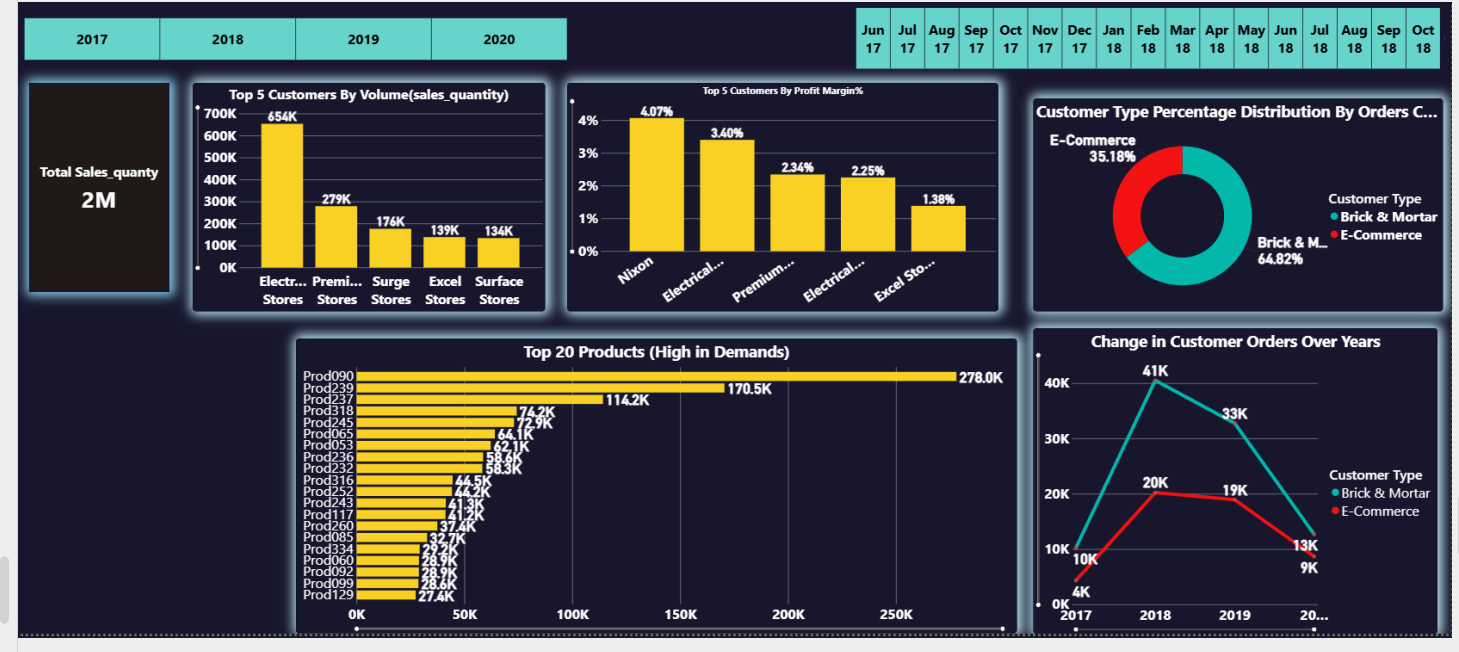

The page's visual inventory and layout, read from the dashboard file:
{"tool":"powerbi","page":{"name":"Customer_Type & Product Insights ","canvas":[4200,2000],"ordinal":2},"visuals":[{"type":"slicer","fields":{"Values":["date.cy_date"]},"box":[2432,160,1760,192],"z":0},{"type":"slicer","fields":{"Values":["date.year"]},"box":[2560,0,1632,128],"z":1000},{"type":"barChart","title":"Top 20 Products (High in Demands) ","fields":{"Category":["transactions.product_code"],"Y":["Sum(transactions.sales_qty)"]},"box":[816,1136,2112,864],"z":2000},{"type":"lineChart","title":"Change in Customer Orders Over Years","fields":{"Y":["CountNonNull(transactions.customer_code)"],"Series":["customers.customer_type"],"Category":["date.cy_date.Variation.Date Hierarchy.Year","date.cy_date.Variation.Date Hierarchy.Quarter"]},"box":[2976,1104,1184,896],"z":3000},{"type":"donutChart","title":"Customer Type Percentage Distribution By Orders Count","fields":{"Category":["customers.customer_type"],"Y":["CountNonNull(transactions.customer_code)"]},"box":[2976,432,1200,624],"z":4000},{"type":"shape","box":[0,0,672,2048],"z":5000},{"type":"image","box":[0,0,672,432],"z":6000},{"type":"actionButton","box":[96,960,448,96],"z":7000},{"type":"actionButton","box":[96,1152,480,128],"z":8000},{"type":"actionButton","box":[160,1408,320,96],"z":9000},{"type":"image","box":[64,704,544,160],"z":10000},{"type":"columnChart","title":"Top 5 Customers By Profit Margin%","fields":{"Category":["customers.custmer_name"],"Y":["BaseMeasure.Profit Margin%"]},"box":[1824,384,1056,672],"z":11000},{"type":"columnChart","title":"Top 5 Customers By Volume(sales_quantity)","fields":{"Category":["customers.custmer_name"],"Y":["BaseMeasure.Total Sales_quanty"]},"box":[768,384,1008,672],"z":12000},{"type":"cardVisual","fields":{"Data":["BaseMeasure.Total Sales_quanty"]},"box":[768,48,1584,240],"z":13000}]}

Visuals, with their boxes on the page's 4200x2000 design canvas (x1, y1, x2, y2). These are canvas units, not pixel positions in the 1459x652 screenshot, which may show the page scaled, cropped or inside an application window:
slicer - date.cy_date: (x1=2432, y1=160, x2=4192, y2=352)
slicer - date.year: (x1=2560, y1=0, x2=4192, y2=128)
"Top 20 Products (High in Demands) " barChart: (x1=816, y1=1136, x2=2928, y2=2000)
"Change in Customer Orders Over Years" lineChart: (x1=2976, y1=1104, x2=4160, y2=2000)
"Customer Type Percentage Distribution By Orders Count" donutChart: (x1=2976, y1=432, x2=4176, y2=1056)
shape: (x1=0, y1=0, x2=672, y2=2048)
image: (x1=0, y1=0, x2=672, y2=432)
actionButton: (x1=96, y1=960, x2=544, y2=1056)
actionButton: (x1=96, y1=1152, x2=576, y2=1280)
actionButton: (x1=160, y1=1408, x2=480, y2=1504)
image: (x1=64, y1=704, x2=608, y2=864)
"Top 5 Customers By Profit Margin%" columnChart: (x1=1824, y1=384, x2=2880, y2=1056)
"Top 5 Customers By Volume(sales_quantity)" columnChart: (x1=768, y1=384, x2=1776, y2=1056)
cardVisual - BaseMeasure.Total Sales_quanty: (x1=768, y1=48, x2=2352, y2=288)
